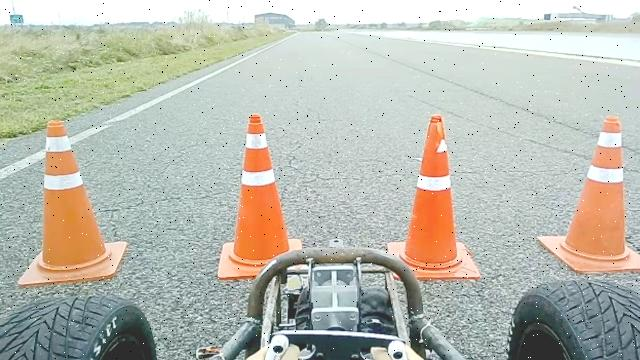red cone: (17, 118, 127, 287), (217, 112, 303, 281)
yellow cone: (536, 114, 640, 274), (387, 114, 481, 282)
